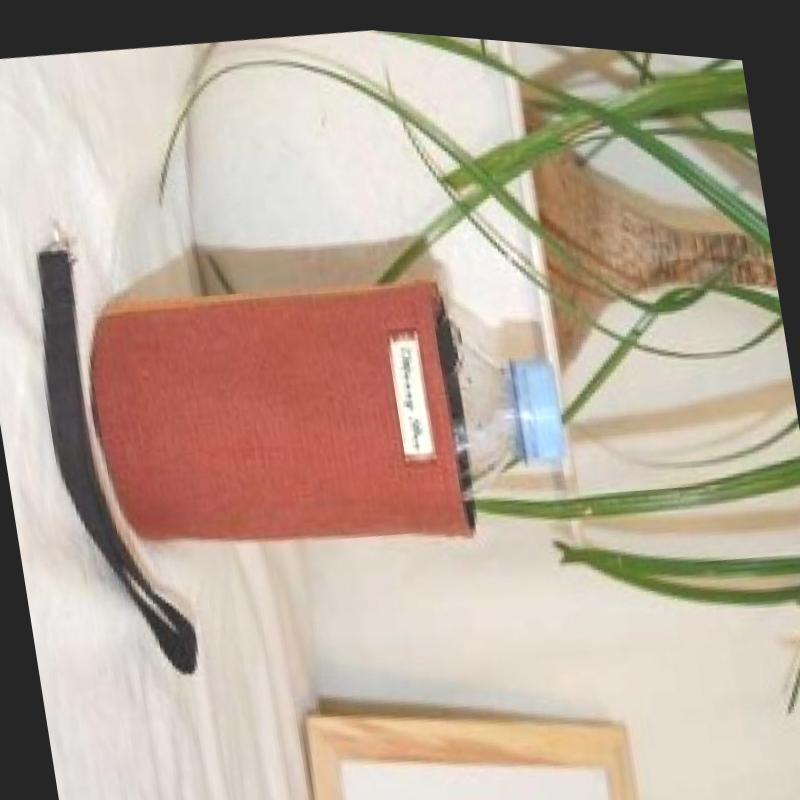botella: (436, 289, 572, 512)
